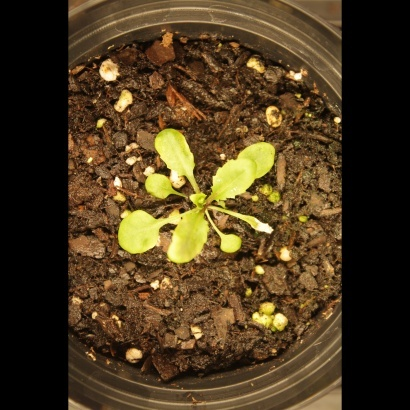leaf: (110, 207, 165, 260), (163, 209, 211, 268), (153, 123, 200, 182), (207, 158, 258, 203), (237, 139, 280, 182), (139, 168, 176, 200), (216, 229, 248, 260), (185, 189, 208, 212)
